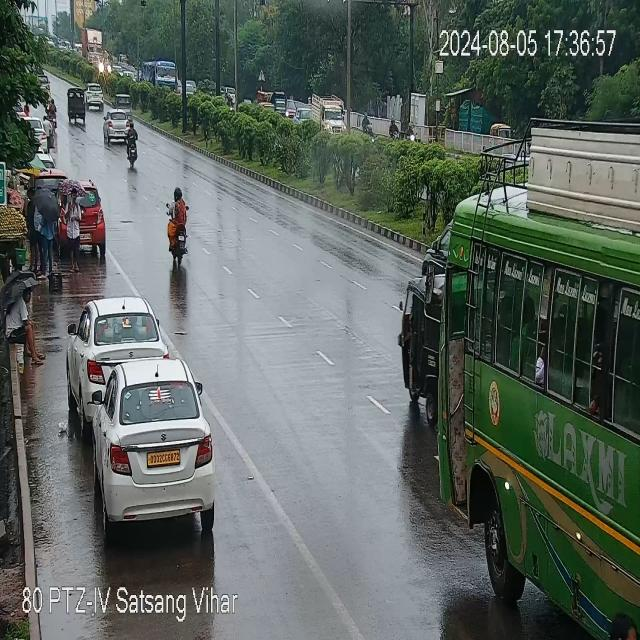2-wheelers: (59, 178, 108, 258), (163, 187, 195, 267), (124, 120, 143, 166), (46, 96, 58, 130), (361, 110, 374, 136), (389, 115, 398, 140)
auto: (398, 272, 440, 420), (482, 125, 530, 165), (68, 89, 88, 122)
bus: (437, 134, 640, 532)
car: (88, 363, 216, 532), (68, 294, 165, 434), (104, 112, 138, 144), (85, 84, 106, 108)
pedestrian: (21, 162, 62, 278), (4, 271, 45, 369), (63, 176, 84, 276), (43, 116, 52, 150)
truck: (311, 97, 354, 136), (140, 58, 178, 89), (82, 26, 103, 64)
